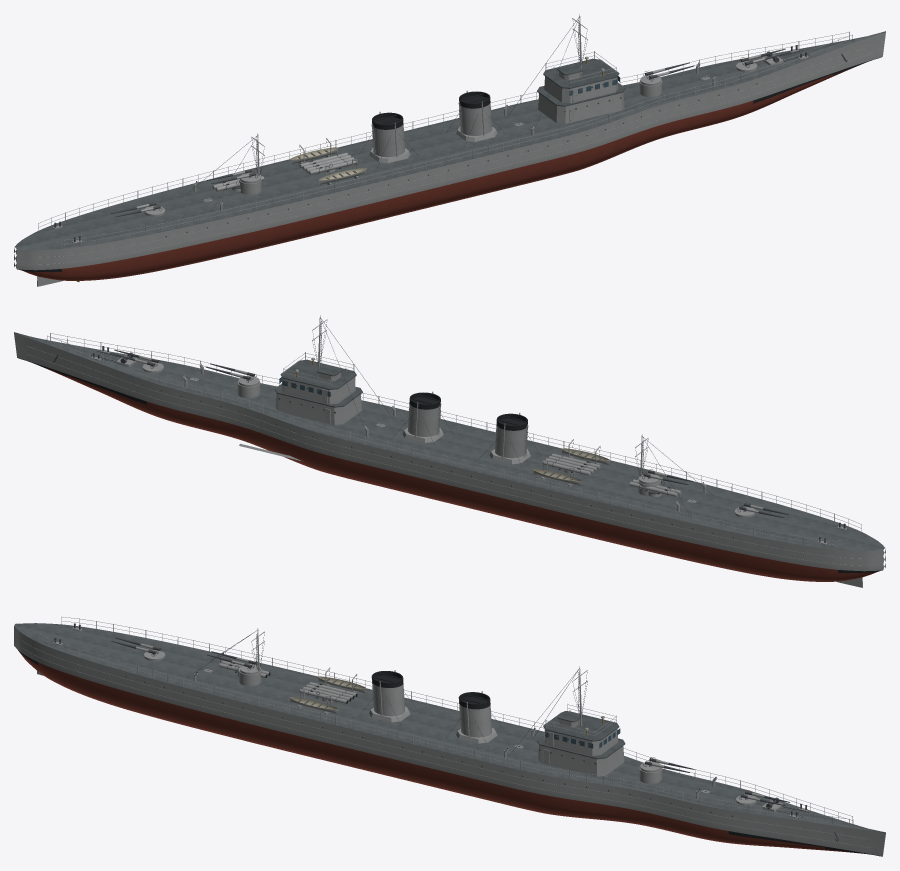
File: leone.glb
3 views of the same model, one above another, from view 1: azimuth 30°, elevation 25°; view 2: azimuth 150°, elevation 25°; view 3: azimuth 330°, elevation 25° (orthographic).
Parts seen in each view (by area): view 1: Leone class (esploratori); view 2: Leone class (esploratori); view 3: Leone class (esploratori).
Part boxes in pixels (box(x1,y1,x2,y2)): Leone class (esploratori): box(14, 14, 885, 286); Leone class (esploratori): box(14, 315, 885, 587); Leone class (esploratori): box(14, 616, 885, 856).
Size of the model in its own units: 113 by 17.7 by 10.39.
9 materials, 8 textured.
